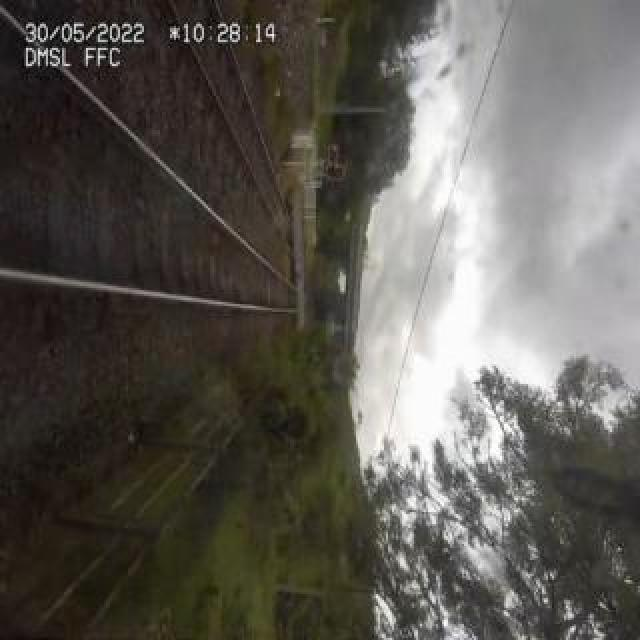Signal-red: (324, 161, 348, 179)
